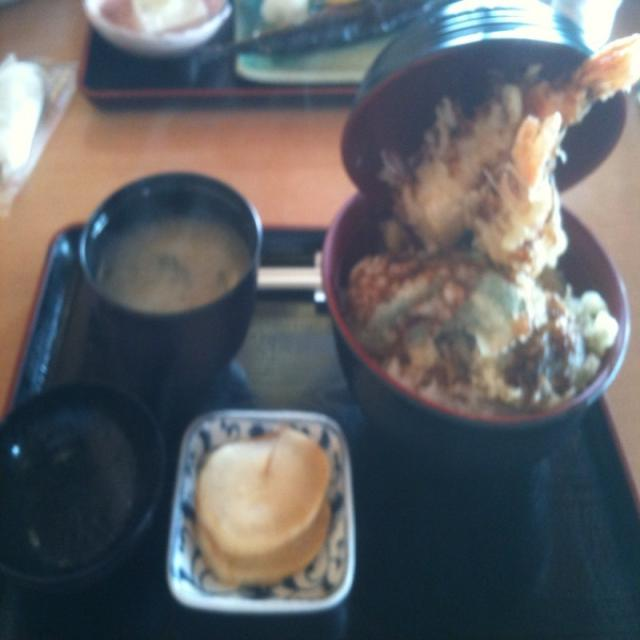汤锅炖物: (82, 169, 272, 387)
熟制海鲜: (309, 0, 640, 492)
